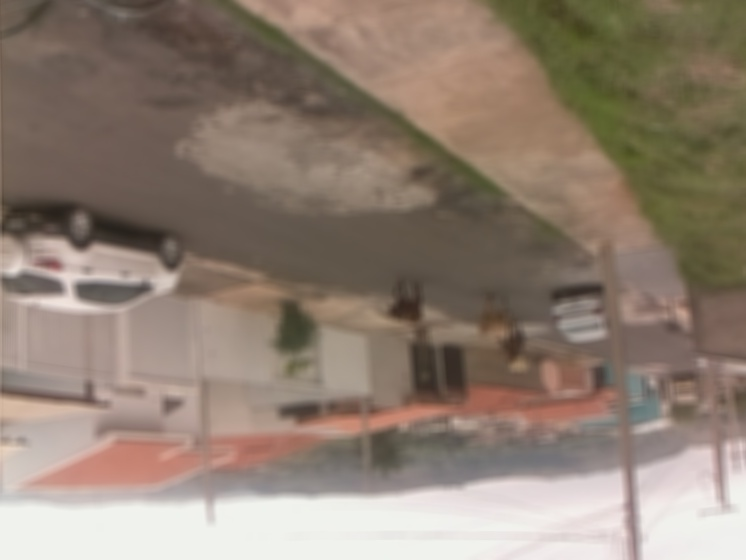person: (506, 354, 530, 378)
